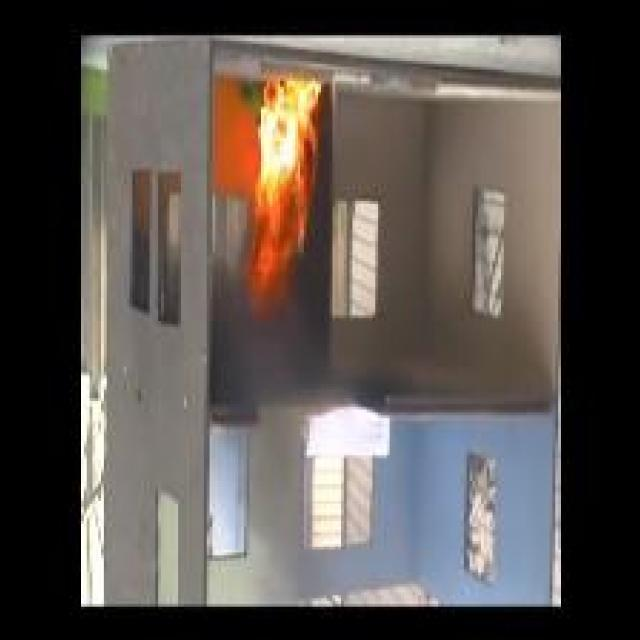Fire: (247, 76, 319, 316)
